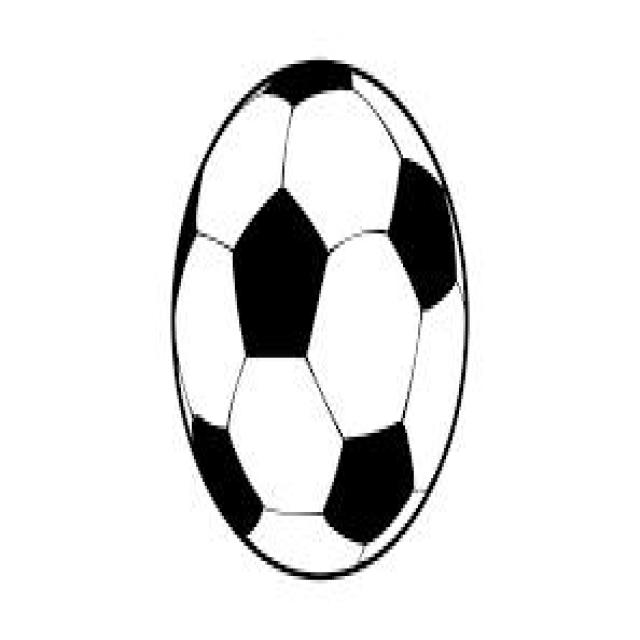Soccer Ball: (168, 60, 470, 584)
